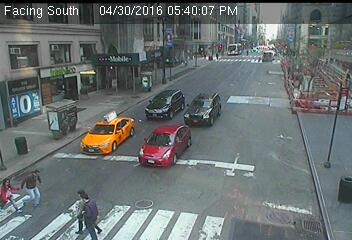neg: (42, 56, 59, 78), (115, 66, 131, 87), (66, 87, 80, 106), (164, 54, 178, 72), (288, 58, 301, 76), (90, 51, 102, 68), (190, 32, 202, 48), (258, 61, 270, 76), (204, 87, 215, 102), (232, 91, 243, 106), (132, 37, 143, 51), (92, 116, 103, 130), (154, 92, 164, 105)
pos: (72, 188, 109, 237), (19, 161, 54, 208), (61, 187, 95, 232), (213, 51, 221, 61), (245, 49, 251, 57)
